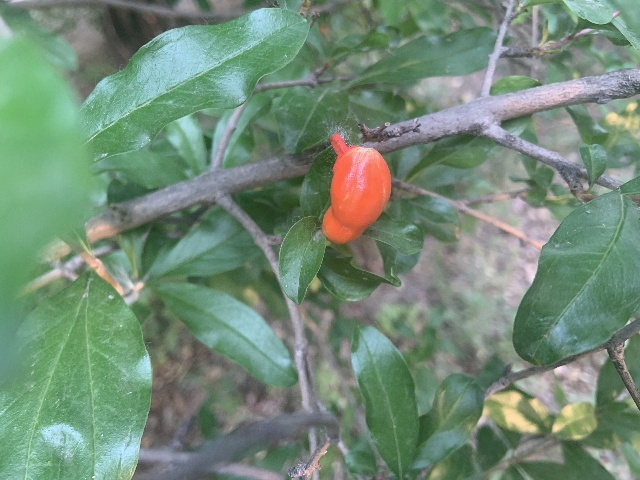flower: (321, 133, 391, 244)
